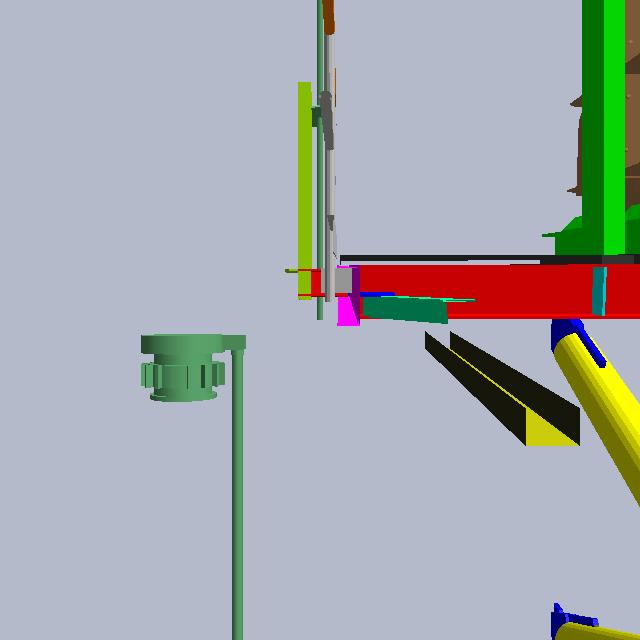Poste: (311, 1, 327, 330)
Soporte: (276, 75, 368, 334)
